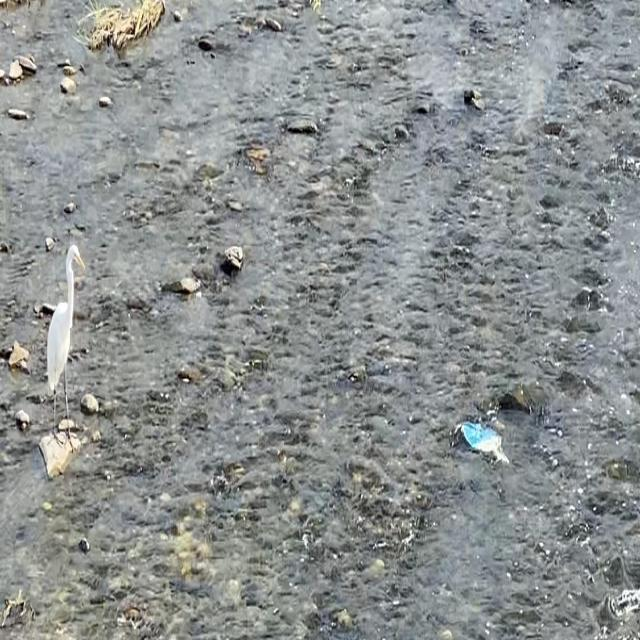litter: (462, 427, 507, 467)
